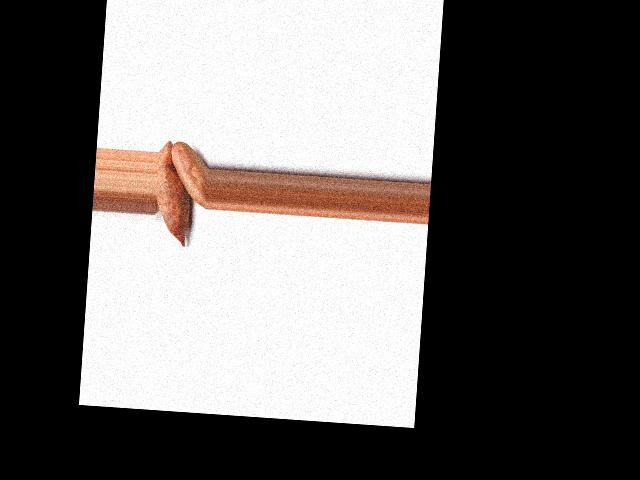sweet_potato: (168, 140, 210, 212)
